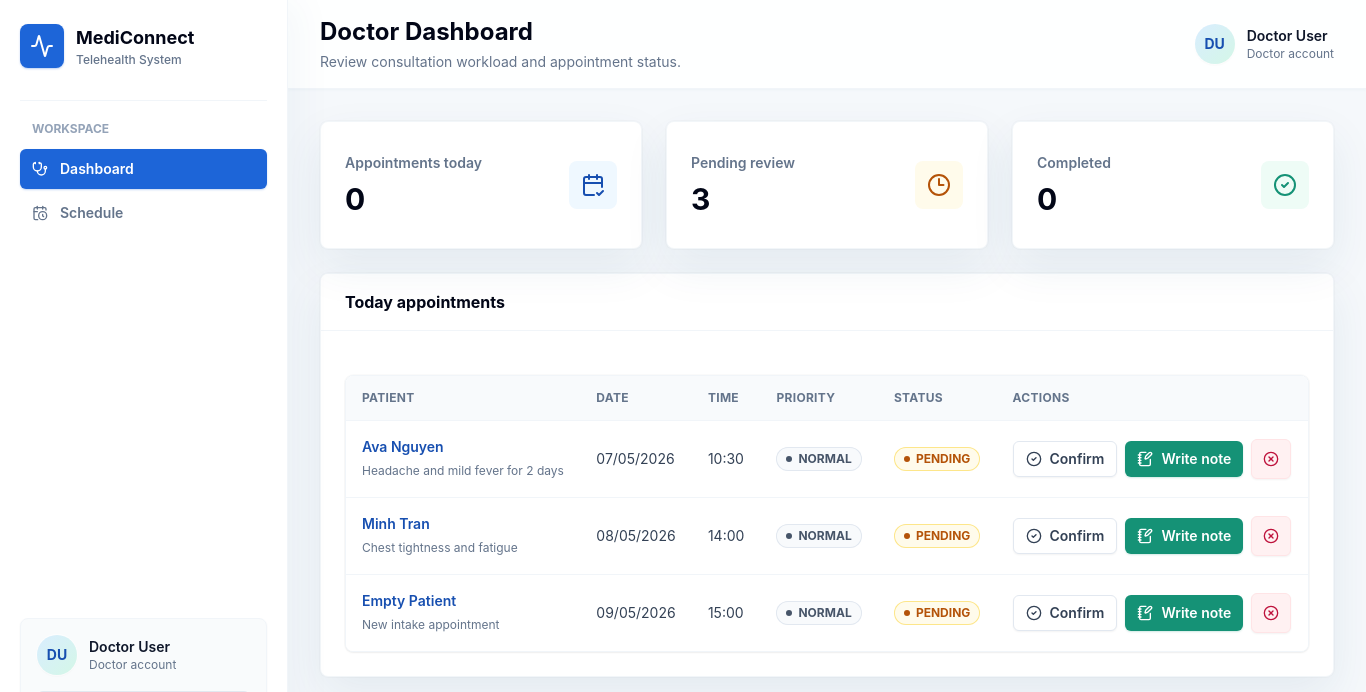
Test: Telehealth frontend routes › lets doctors confirm pending appointments from the dashboard
This screenshot has width=1366, height=692.
Click the button with aria-label "confirm ava nguyen appointment" at point(1065, 459), box [1012,441,1117,477]
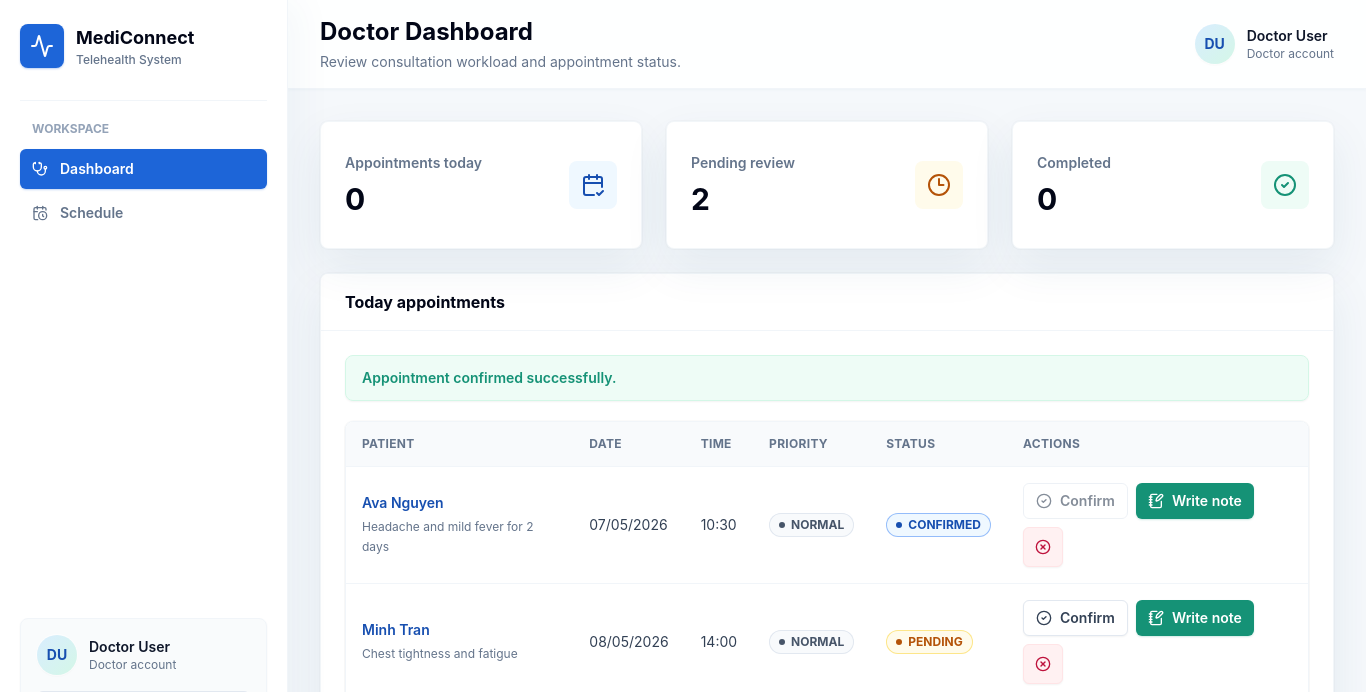
Result: the text "Appointment confirmed successfully." is shown at [345,355,1309,401]
Result: the text "CONFIRMED" is shown at [886,513,991,537]
